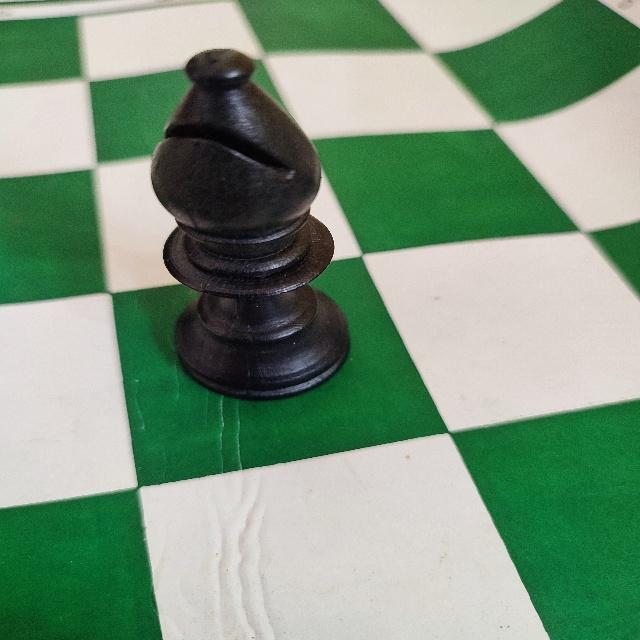Bishop: (147, 45, 354, 402)
